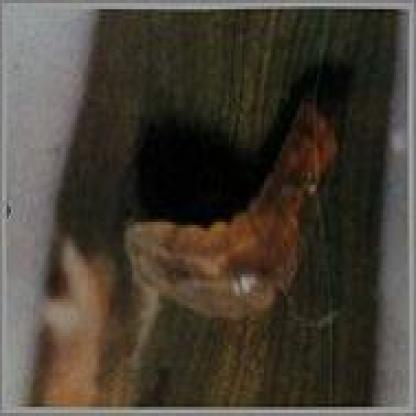whorl-maggot: (121, 93, 342, 322)
